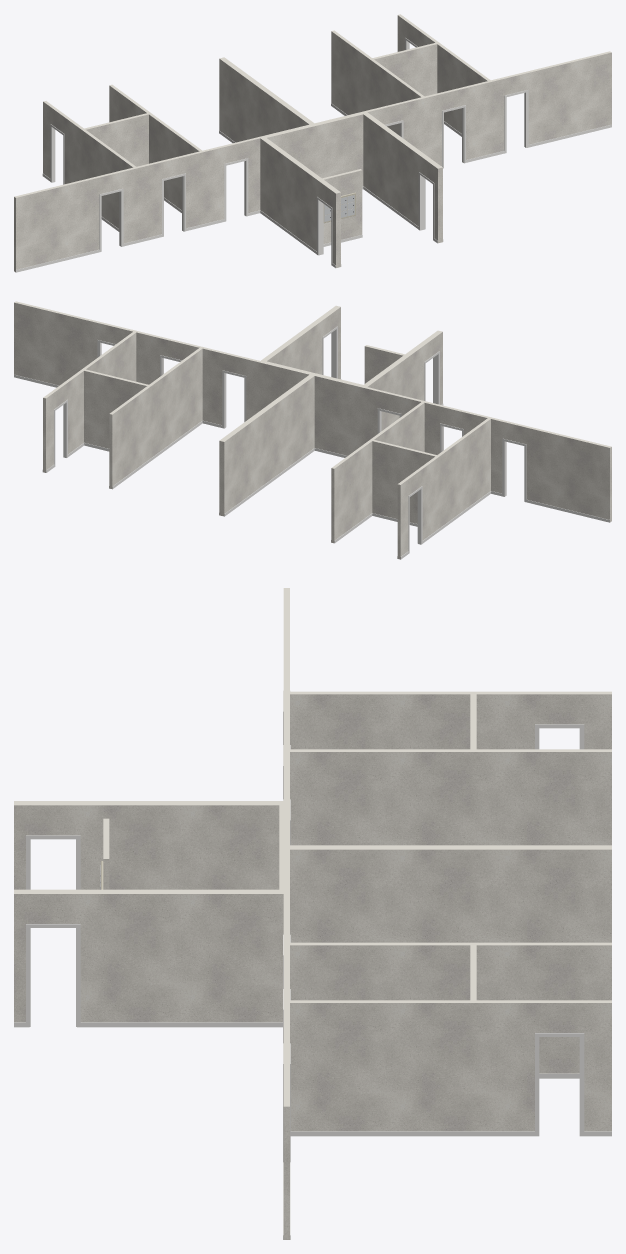
Rendered from walls_g.glb.
3 views of the same model, one above another, from view 1: azimuth 30°, elevation 25°; view 2: azimuth 150°, elevation 25°; view 3: azimuth 270°, elevation 25° (orthographic). The views are drawn at different scales.
Parts seen in each view (by area): view 1: walls_g_plaster, walls_g_trim, walls_g_alu; view 2: walls_g_plaster, walls_g_trim; view 3: walls_g_plaster, walls_g_trim.
Boxes of the visible parts, x1=… form: walls_g_plaster: x1=14, y1=14, x2=611, y2=272; walls_g_trim: x1=16, y1=37, x2=611, y2=272; walls_g_alu: x1=324, y1=195, x2=354, y2=221; walls_g_plaster: x1=14, y1=301, x2=611, y2=559; walls_g_trim: x1=14, y1=326, x2=609, y2=559; walls_g_plaster: x1=14, y1=588, x2=611, y2=1239; walls_g_trim: x1=14, y1=690, x2=611, y2=1239.
Size of the model in its own units: 23.4 by 2.8 by 11.4.
Materials: 5 (1 with a texture image).
